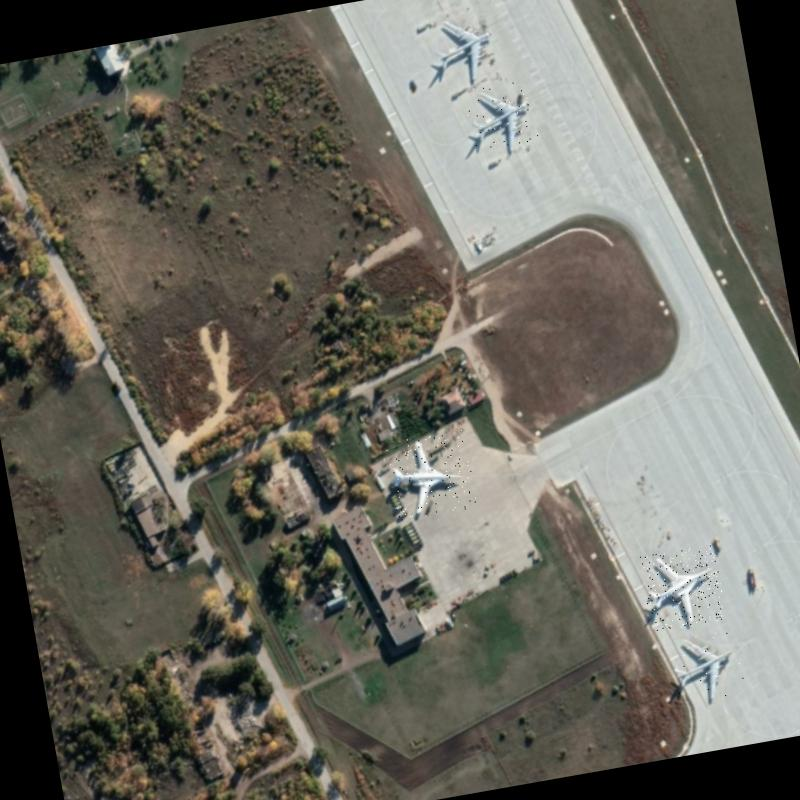A17: (424, 7, 506, 93), (668, 626, 748, 709), (463, 79, 541, 163)
A6: (384, 430, 477, 522), (639, 544, 727, 632)
